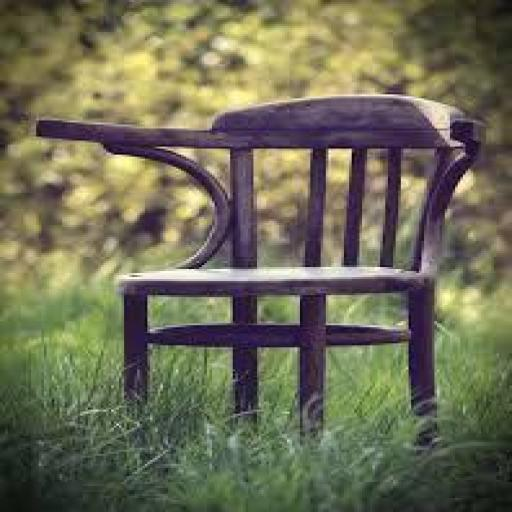chair: (24, 94, 498, 456)
